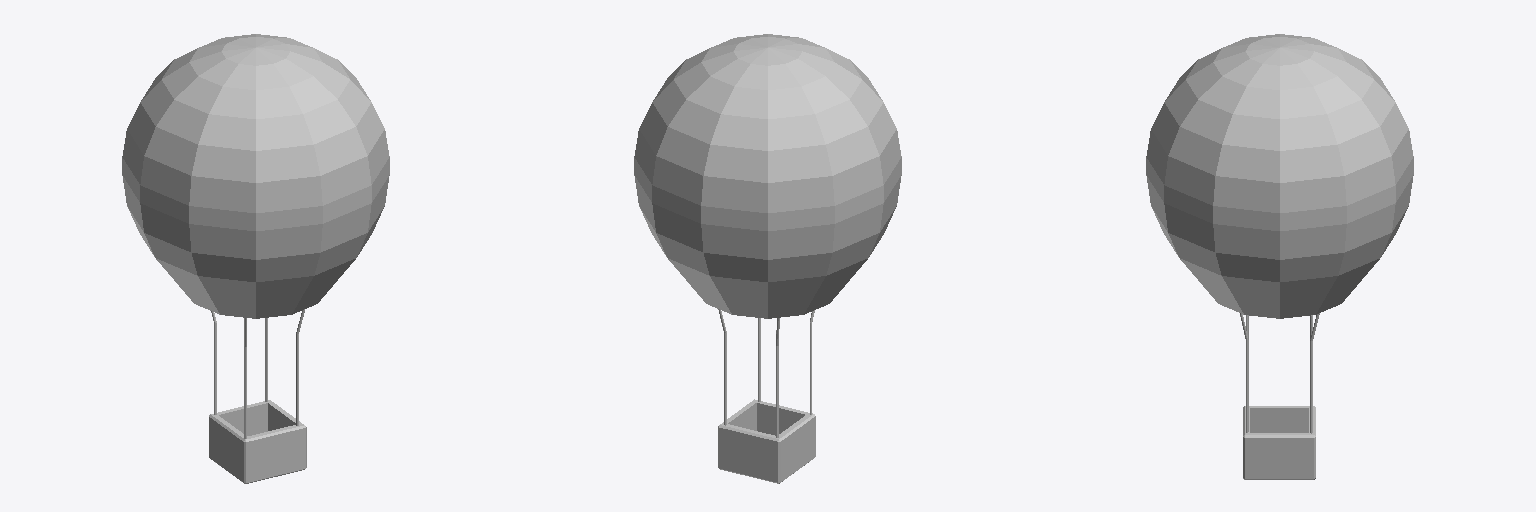
File: balloon.obj
3 renders of one model, left to right at view 1: azimuth 30°, elevation 25°; view 2: azimuth 150°, elevation 25°; view 3: azimuth 270°, elevation 25°, orthographic.
Visible parts, largest first — view 1: HotAirBallon_1389; view 2: HotAirBallon_1389; view 3: HotAirBallon_1389.
Boxes of the visible parts, x1=… form: HotAirBallon_1389: x1=122, y1=34, x2=389, y2=483; HotAirBallon_1389: x1=634, y1=34, x2=901, y2=483; HotAirBallon_1389: x1=1146, y1=34, x2=1413, y2=479.
Size of the model in its own units: 4.71 by 8.12 by 4.71.